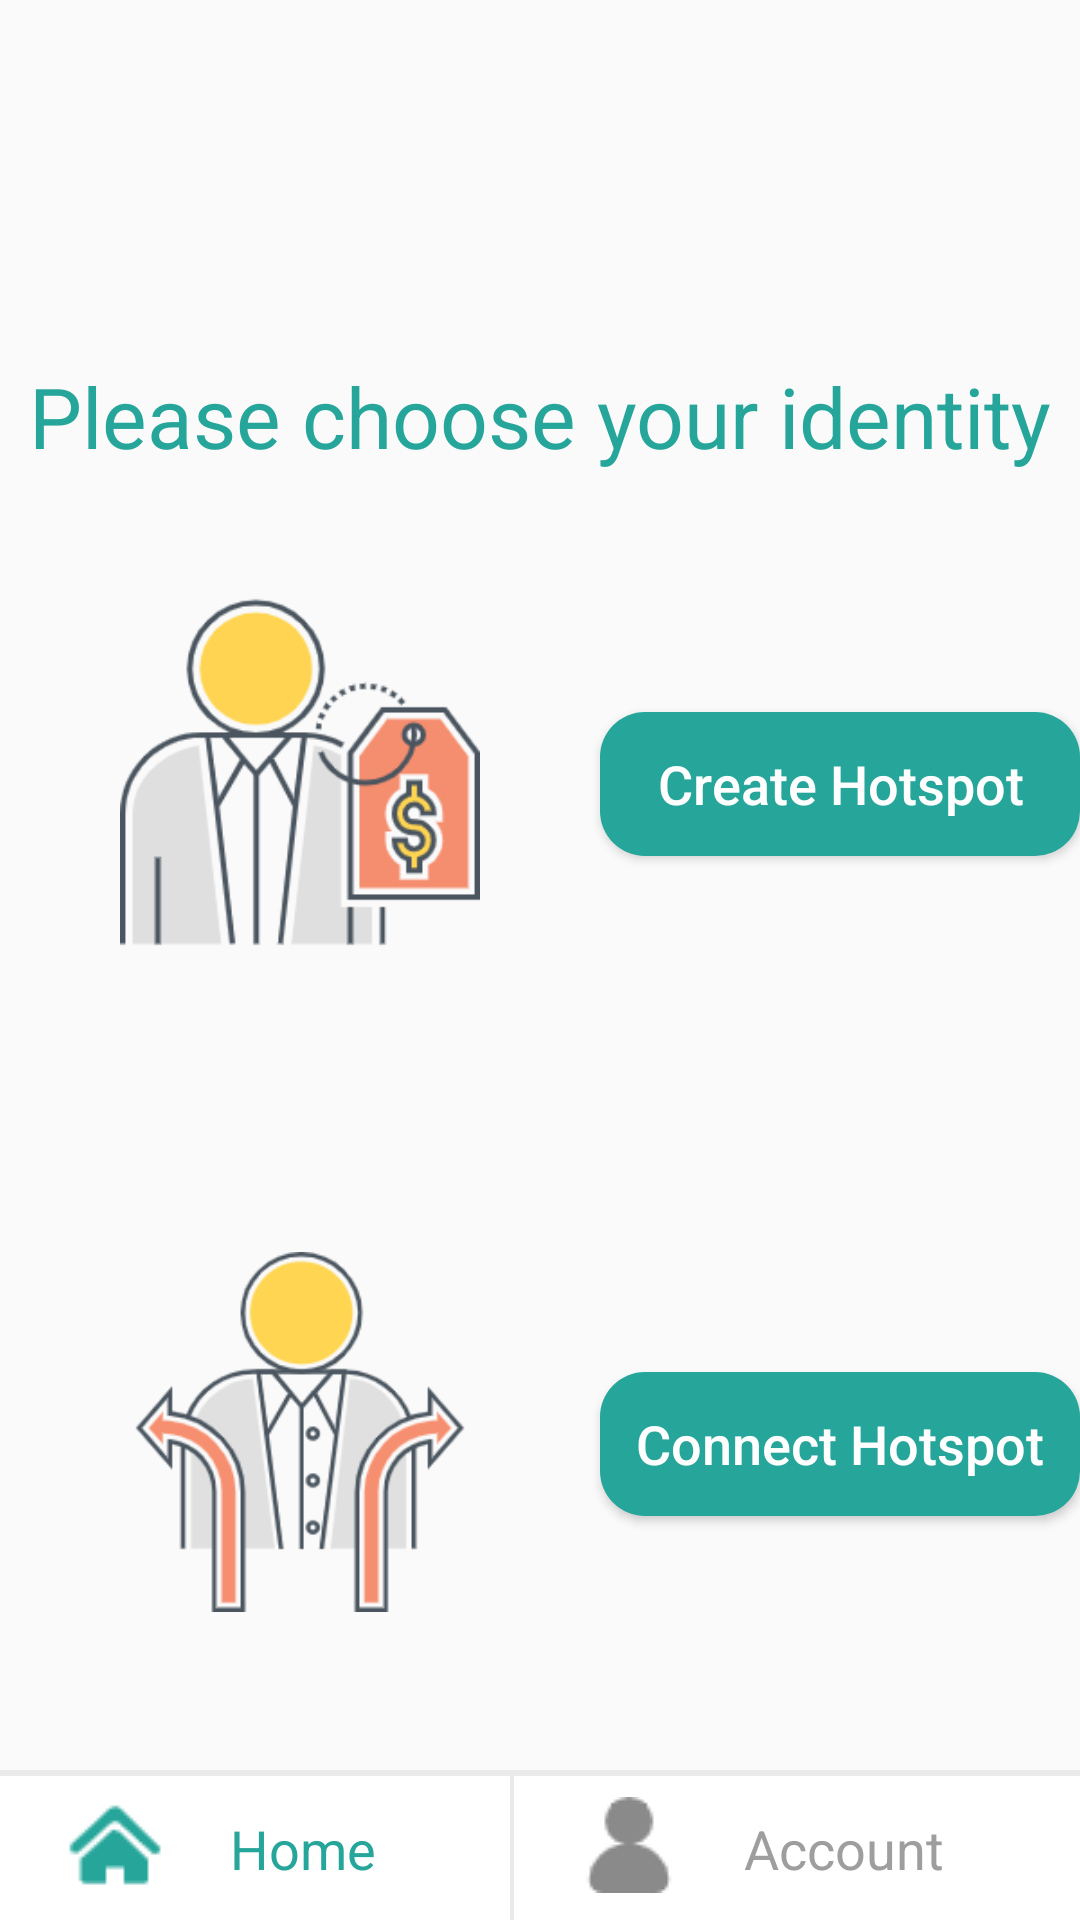

Where icons sit on this 1080 × 1920 app screen, as [x1, y1, x2, y2]:
user nav: [588, 1797, 670, 1893]
